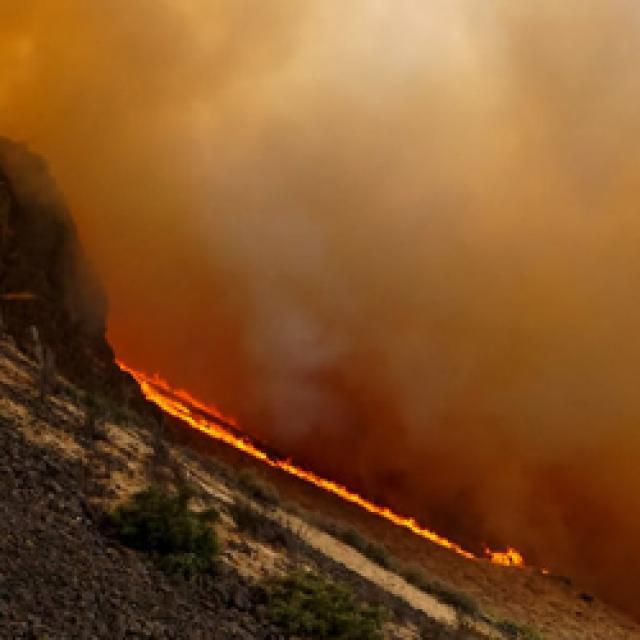Fire: (110, 358, 243, 444), (366, 500, 480, 563), (248, 444, 357, 502), (481, 538, 526, 572)
Smoke: (0, 0, 640, 325), (243, 321, 640, 433), (353, 425, 640, 499), (477, 495, 640, 544)
